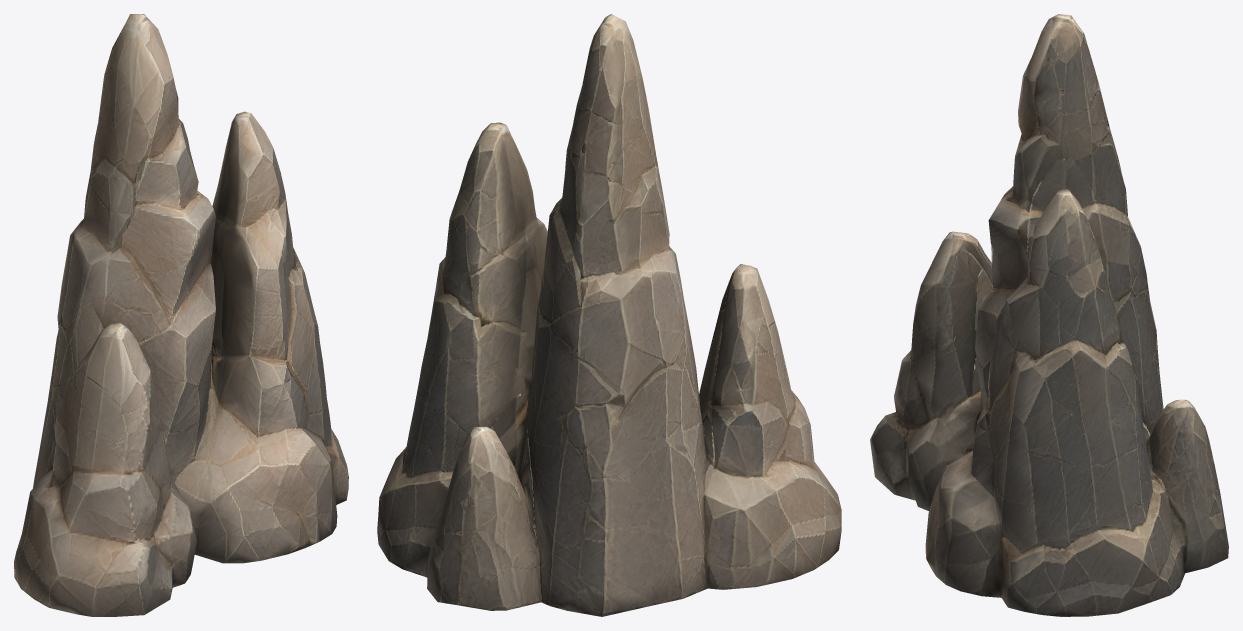
The model's file is P07_Stalagmites.glb.
3 views of the same model, side by side, from view 1: azimuth 30°, elevation 25°; view 2: azimuth 150°, elevation 25°; view 3: azimuth 270°, elevation 25° (orthographic). The views are drawn at different scales.
Visible parts, largest first — view 1: texture_mapping; view 2: texture_mapping; view 3: texture_mapping.
Part boxes in pixels (x1,y1,x2,y2): texture_mapping: (14, 14, 348, 616); texture_mapping: (377, 14, 841, 616); texture_mapping: (870, 14, 1228, 616).
Size of the model in its own units: 0.7258 by 1 by 0.6448.
1 material, 1 textured.
